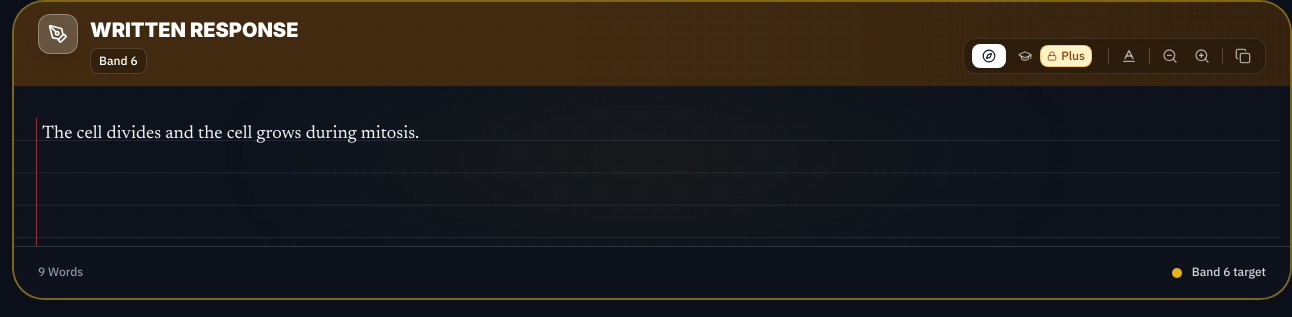
Test: Editor writing modes › Coach Mode offers bold/italic behind the formatting toggle
Click the button named "formatting". click: coordinates (1129, 56)
box: [1115,42,1143,70]
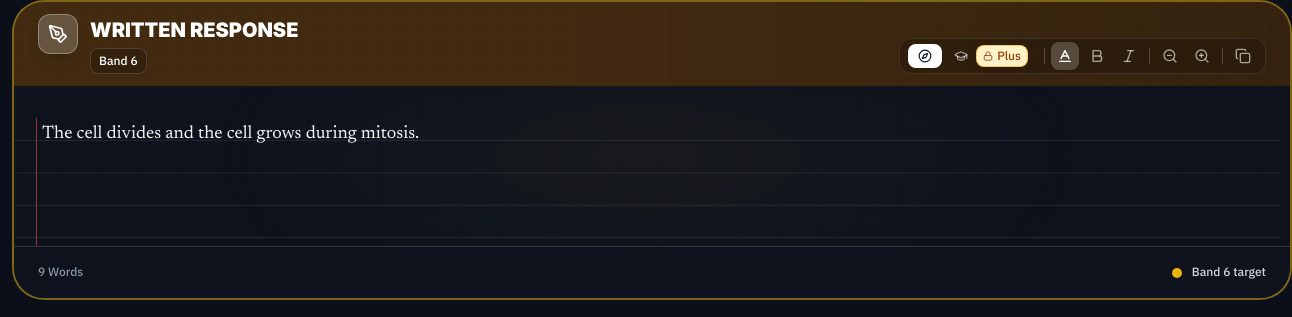
Expected: the button named "Bold" is shown, [1083,42,1111,70]
Expected: the button named "Italic" is shown, [1115,42,1143,70]
